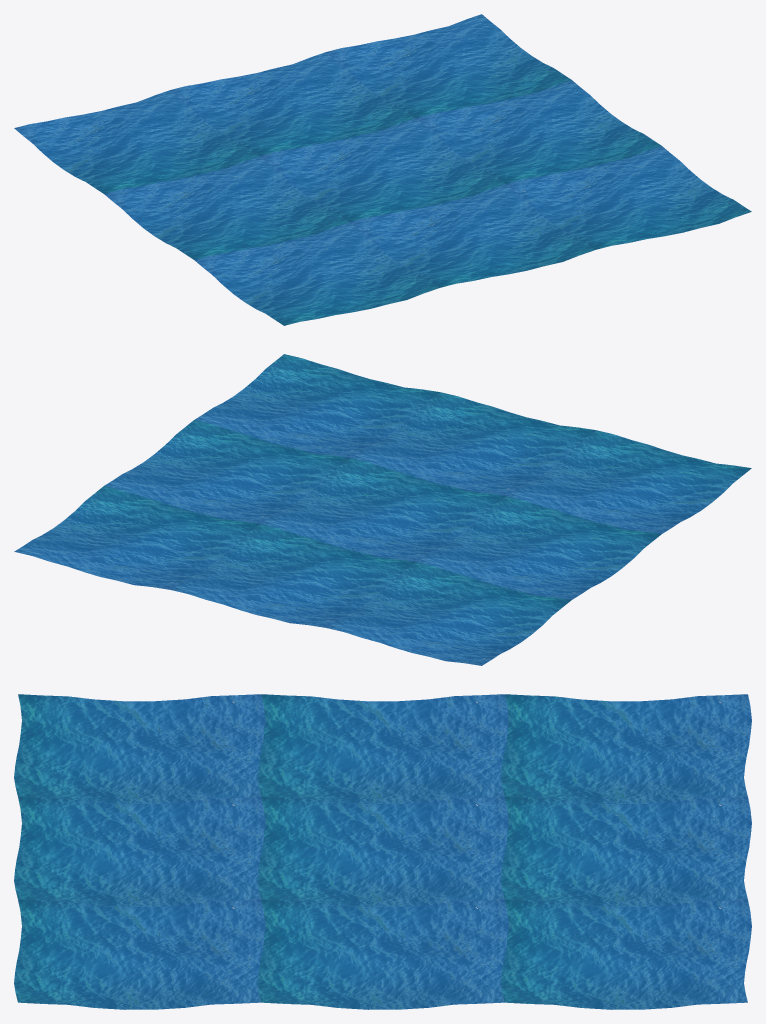
File: ocean_000228.obj
3 views of the same model, one above another, from view 1: azimuth 30°, elevation 25°; view 2: azimuth 150°, elevation 25°; view 3: azimuth 270°, elevation 25° (orthographic). The views are drawn at different scales.
Visible parts, largest first — view 1: Ocean_Plan.001; view 2: Ocean_Plan.001; view 3: Ocean_Plan.001.
Part boxes in pixels (x1,y1,x2,y2): Ocean_Plan.001: [14, 14, 751, 325]; Ocean_Plan.001: [14, 354, 751, 665]; Ocean_Plan.001: [14, 694, 751, 1009].
Bounding box in the file's own units: 109058 × 2036 × 110166.
1 material, 1 textured.
